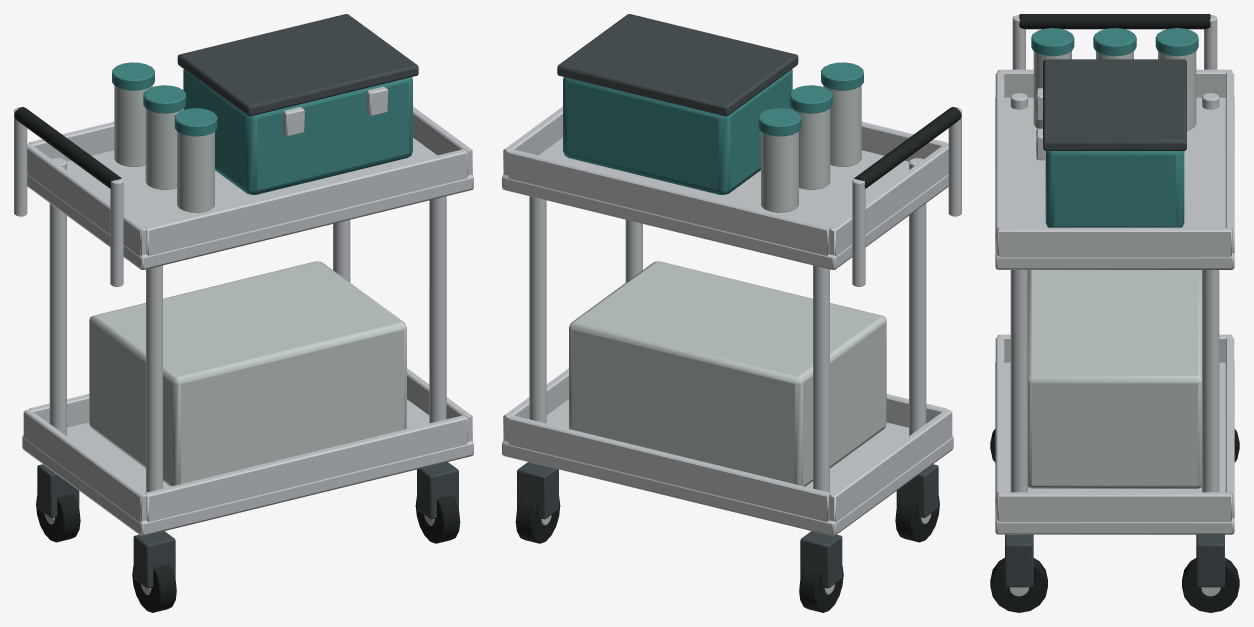
Rendered from LP_SampleTrolley.fbx.
3 views of the same model, side by side, from view 1: azimuth 30°, elevation 25°; view 2: azimuth 150°, elevation 25°; view 3: azimuth 270°, elevation 25° (orthographic).
Visible parts, largest first — view 1: Body; view 2: Body; view 3: Body.
Boxes of the visible parts, bbox=[...] form: Body: bbox=[14, 14, 473, 612]; Body: bbox=[502, 14, 961, 612]; Body: bbox=[990, 14, 1239, 612].
Bounding box in the file's own units: 84.6 × 107 × 52.
